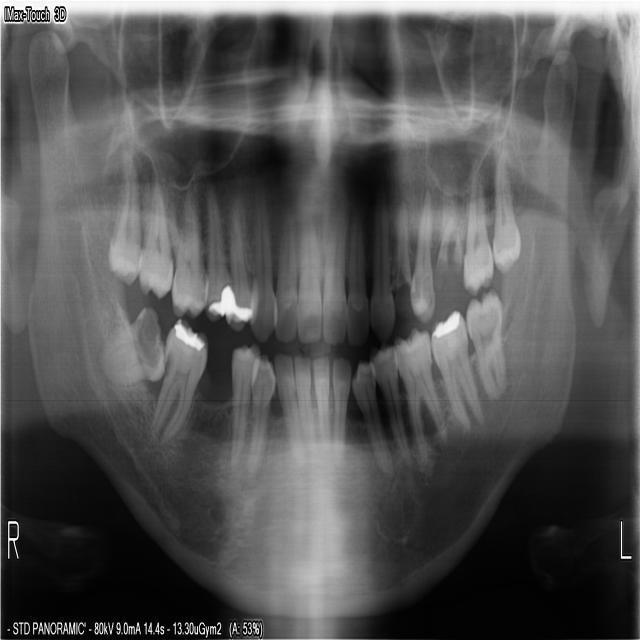LCU: (368, 189, 395, 344)
LID: (310, 353, 333, 470), (330, 353, 351, 472)
LIU: (321, 202, 349, 345), (345, 205, 368, 348)
LMD: (391, 326, 449, 459), (428, 302, 483, 432), (464, 287, 507, 404)
LMU: (461, 153, 494, 298), (490, 142, 522, 276)
LPMD: (350, 358, 393, 477), (373, 344, 411, 469)
LPMU: (407, 183, 435, 326)
RCU: (246, 192, 273, 344)
RID: (272, 349, 306, 471), (293, 352, 319, 469)
RIU: (295, 196, 321, 346), (271, 207, 296, 344)
RMD: (147, 316, 207, 446), (95, 306, 162, 386)
RMU: (104, 145, 140, 288), (166, 185, 204, 320), (135, 177, 172, 302)
RPMD: (227, 340, 259, 467), (243, 351, 274, 474)
RPMU: (202, 182, 228, 327), (224, 197, 248, 333)
